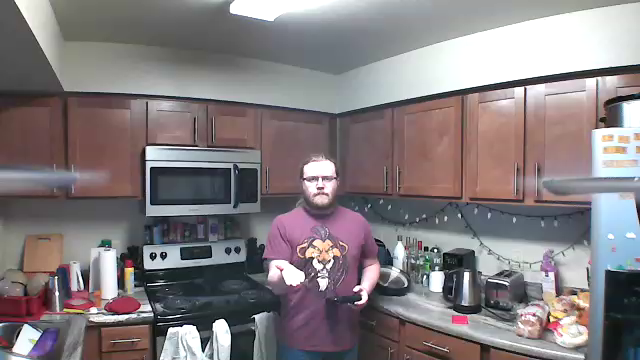land: (274, 261, 310, 288)
